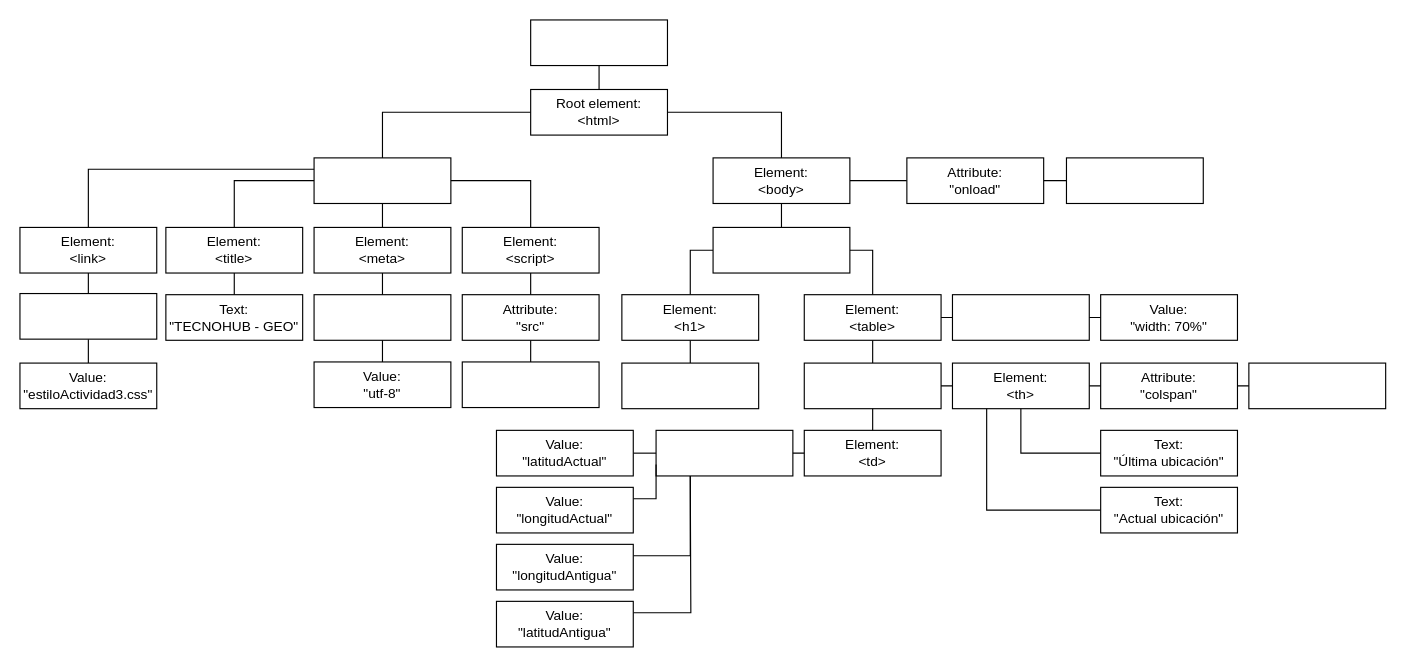
The diagram is 1406 pixels wide and 667 high, and some of its shapes have lost their labels. The centre of each missing label's shape, as x and y in pixels:
Actividad3: point 598,42
Attribute: "charset": point 382,317
Attribute: "href": point 88,315
Attribute: "id": point 724,452
Attribute: "style": point 1020,317
Element: <div>: point 781,249
Element: <head>: point 382,180
Element: <tr>: point 872,385
Text: Actividad 3: point 690,385
Value: "2": point 1317,385
Value: "cargarDatos()": point 1134,180
Value: "geoloc.js": point 530,384
